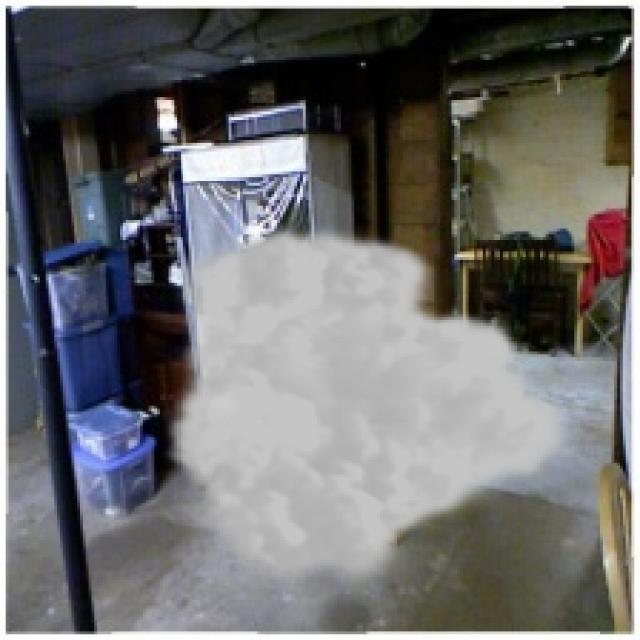smoke: (163, 220, 580, 594)
